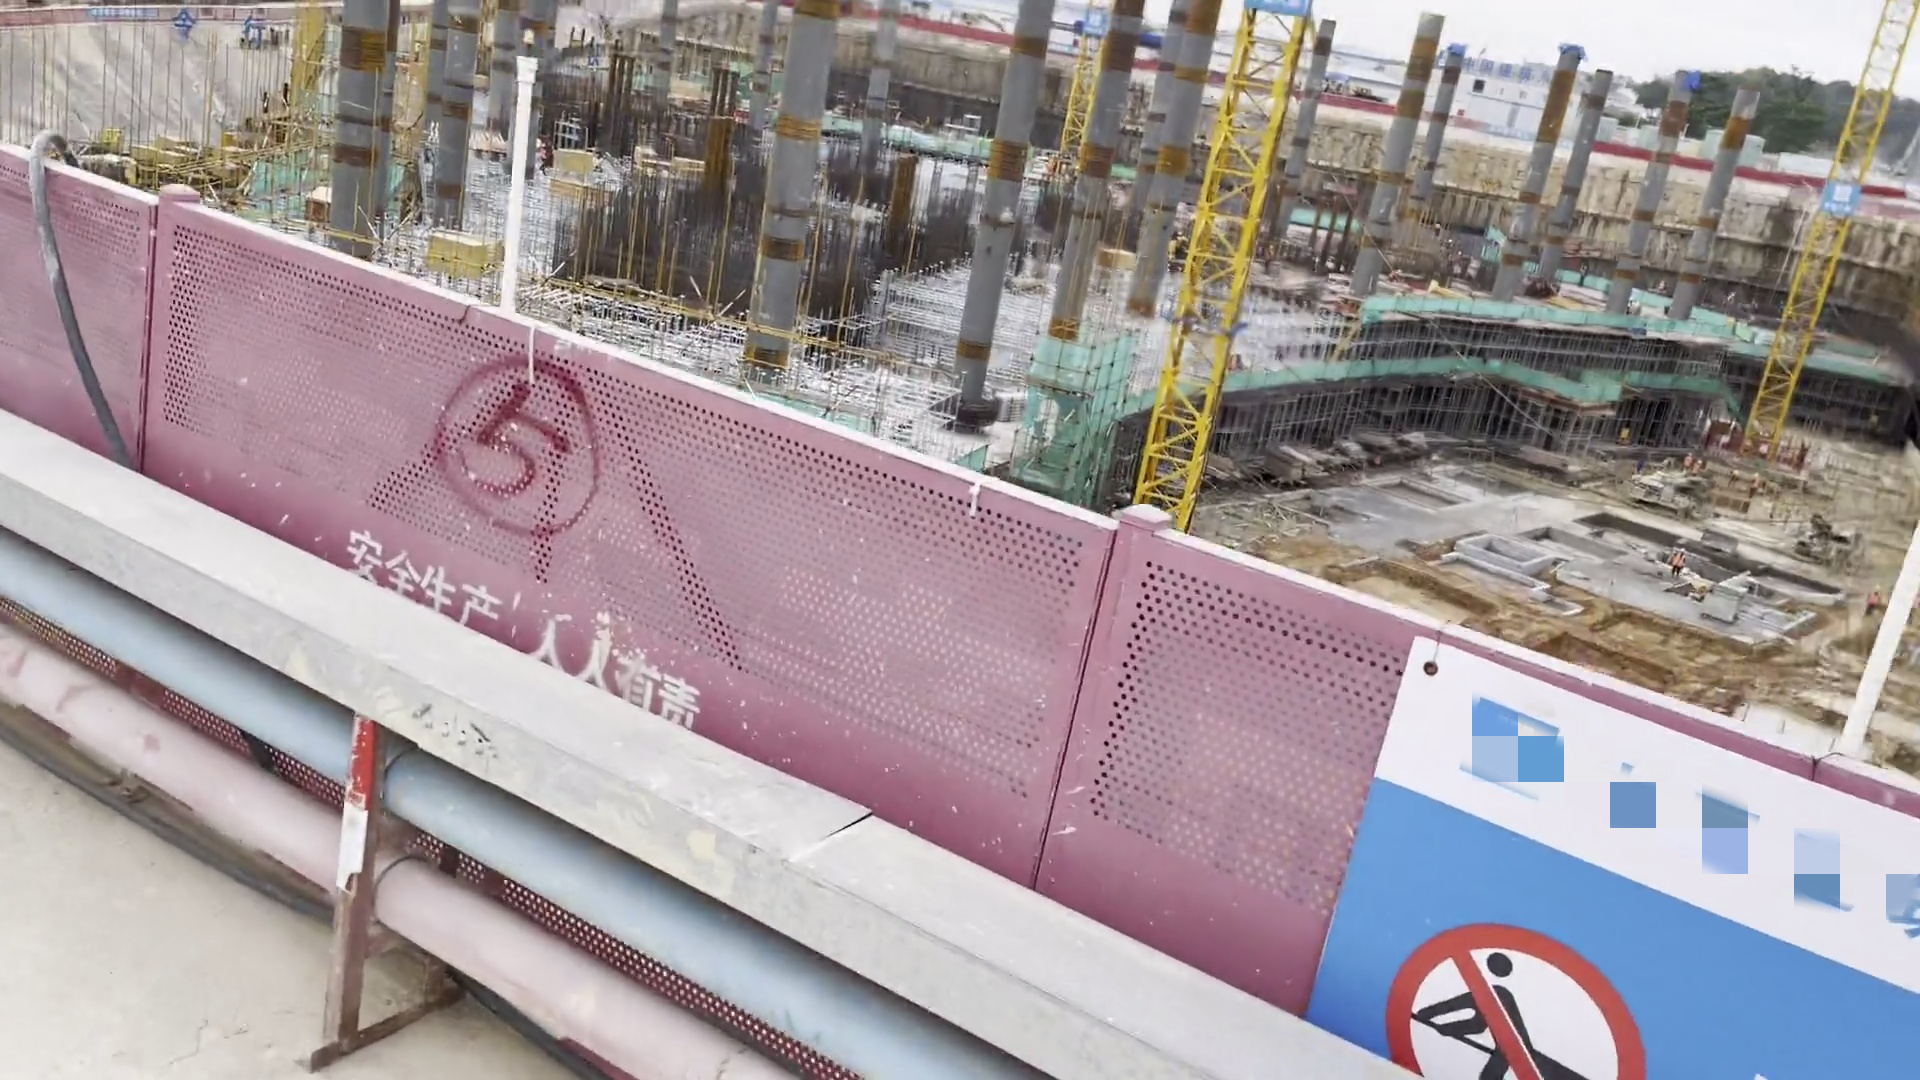brick: (1442, 532, 1554, 592), (1397, 478, 1465, 503)
fence: (1176, 539, 1920, 1080), (722, 412, 1190, 955), (279, 245, 738, 778), (1, 142, 284, 562)
helmet: (1677, 548, 1689, 557)
person: (1666, 546, 1692, 581)
scaffold: (992, 388, 1027, 427)
slogan: (1306, 609, 1920, 1080), (1221, 1, 1345, 37), (1815, 157, 1864, 232), (1073, 3, 1111, 41)
vest: (1671, 552, 1686, 570)
wood: (414, 216, 500, 272), (538, 146, 604, 201), (285, 176, 327, 226)
